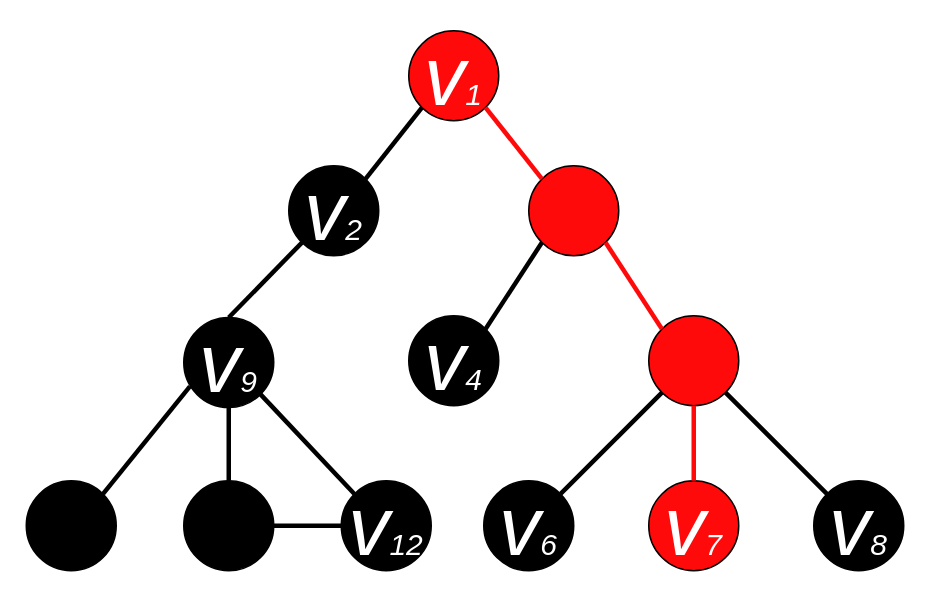
This 930x600 diagram has some shape labels left out. Each missing label, with the centre of its shape:
v 10: point (70, 525)
v 11: point (228, 525)
v 3: point (573, 210)
v 5: point (693, 360)
